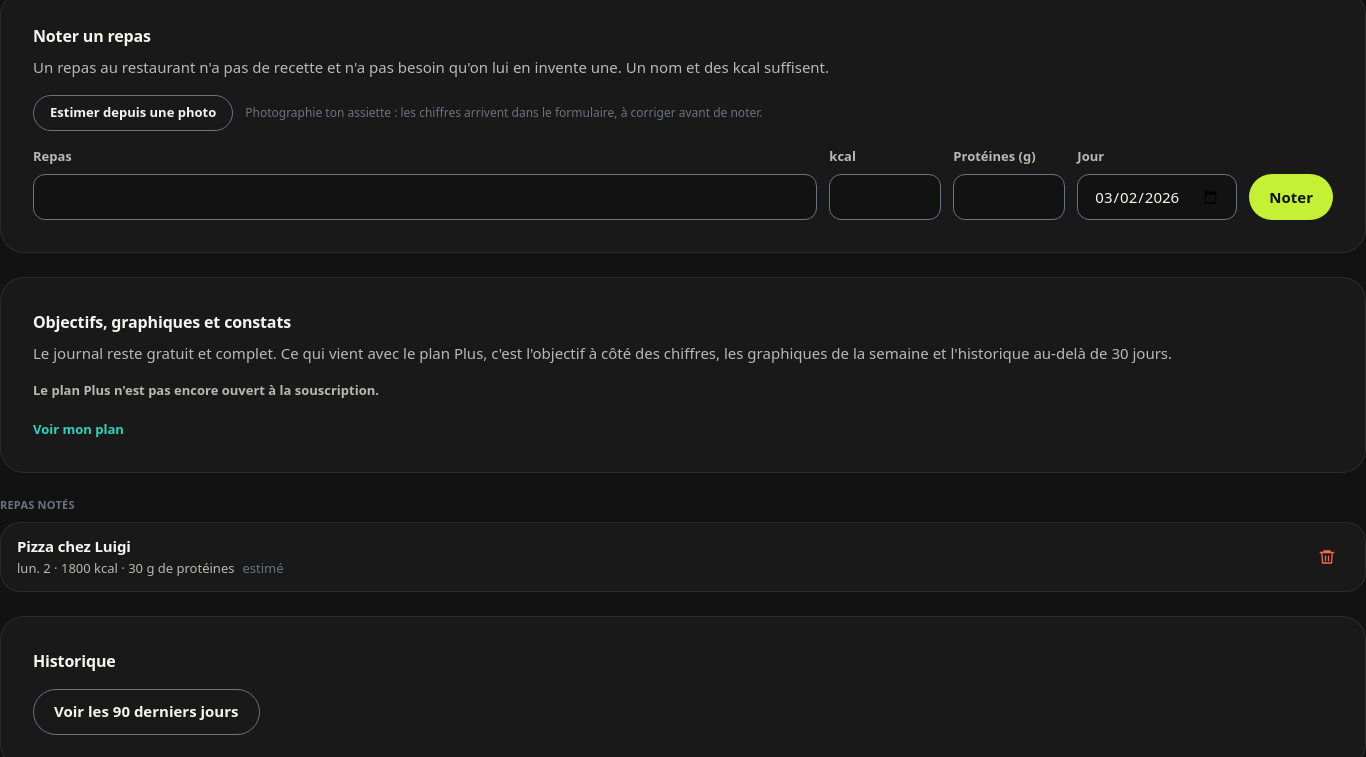
Test case: Journal › shows the free plan's window as a smaller answer, not a refusal
This screenshot has width=1366, height=757.
(page scrolled)
Click the button "Voir les 90 derniers jours".
click(146, 712)  # box [33, 688, 260, 734]
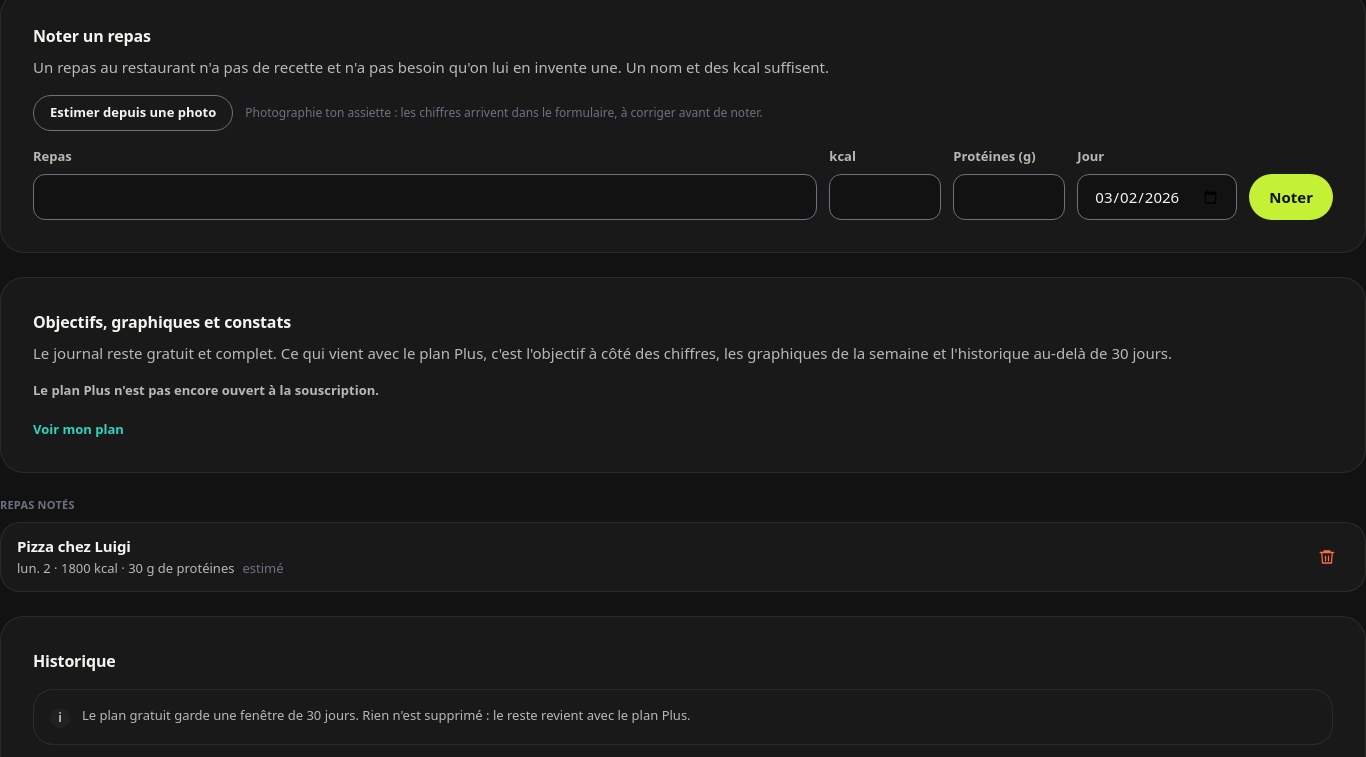
Result: the message with test id "history-windowed" shows "fenêtre de 30 jours" at [82, 706, 691, 724]
Result: the message with test id "history-windowed" shows "Rien n'est supprimé" at [82, 706, 691, 724]
